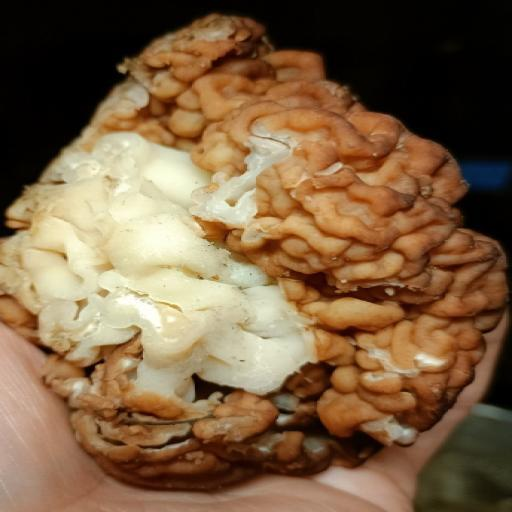mushroom: (9, 9, 508, 498)
